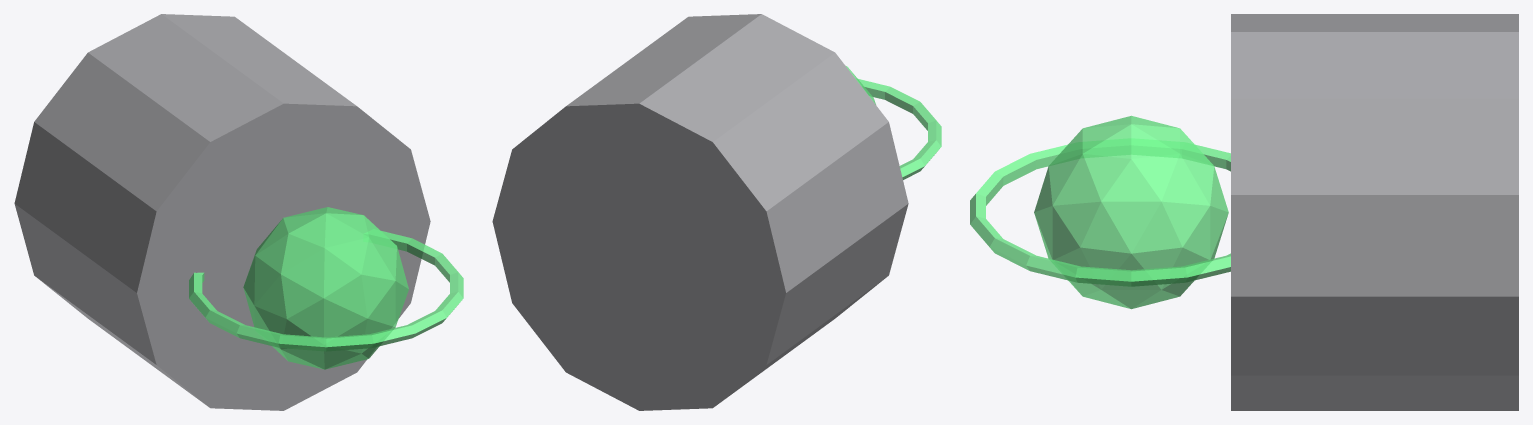
Rendered from ancient_story_pedestal.glb.
3 views of the same model, side by side, from view 1: azimuth 30°, elevation 25°; view 2: azimuth 150°, elevation 25°; view 3: azimuth 270°, elevation 25° (orthographic). The views are drawn at different scales.
Parts seen in each view (by area): view 1: pedestal, story_relic, relic_halo; view 2: pedestal, relic_halo; view 3: pedestal, story_relic, relic_halo.
Part boxes in pixels (x1=…): pedestal: x1=14, y1=14, x2=430, y2=410; story_relic: x1=243, y1=207, x2=408, y2=369; relic_halo: x1=189, y1=231, x2=463, y2=351; pedestal: x1=492, y1=14, x2=908, y2=410; relic_halo: x1=858, y1=79, x2=941, y2=179; pedestal: x1=1231, y1=14, x2=1518, y2=410; story_relic: x1=1034, y1=115, x2=1228, y2=309; relic_halo: x1=970, y1=144, x2=1230, y2=286.
Bounding box in the file's own units: 0.9 × 0.9 × 1.24.
